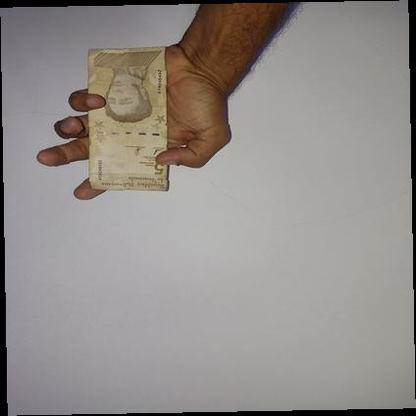five-front-vef: (88, 47, 168, 192)
